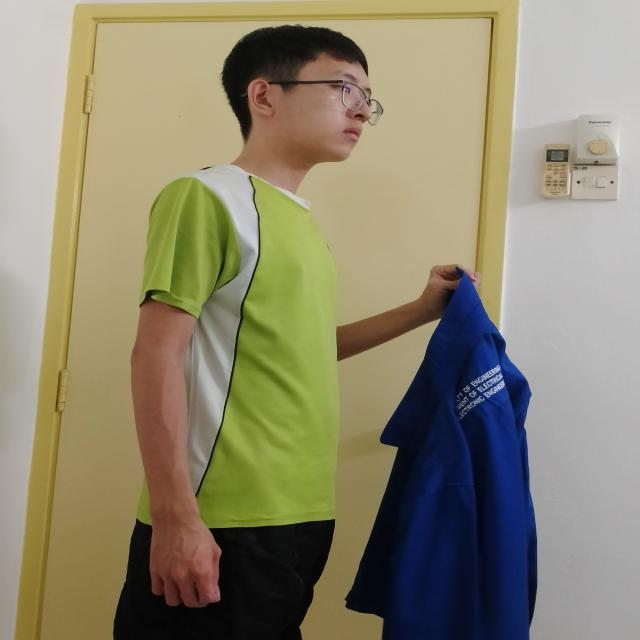person_without_labcoat: (113, 25, 537, 640)
